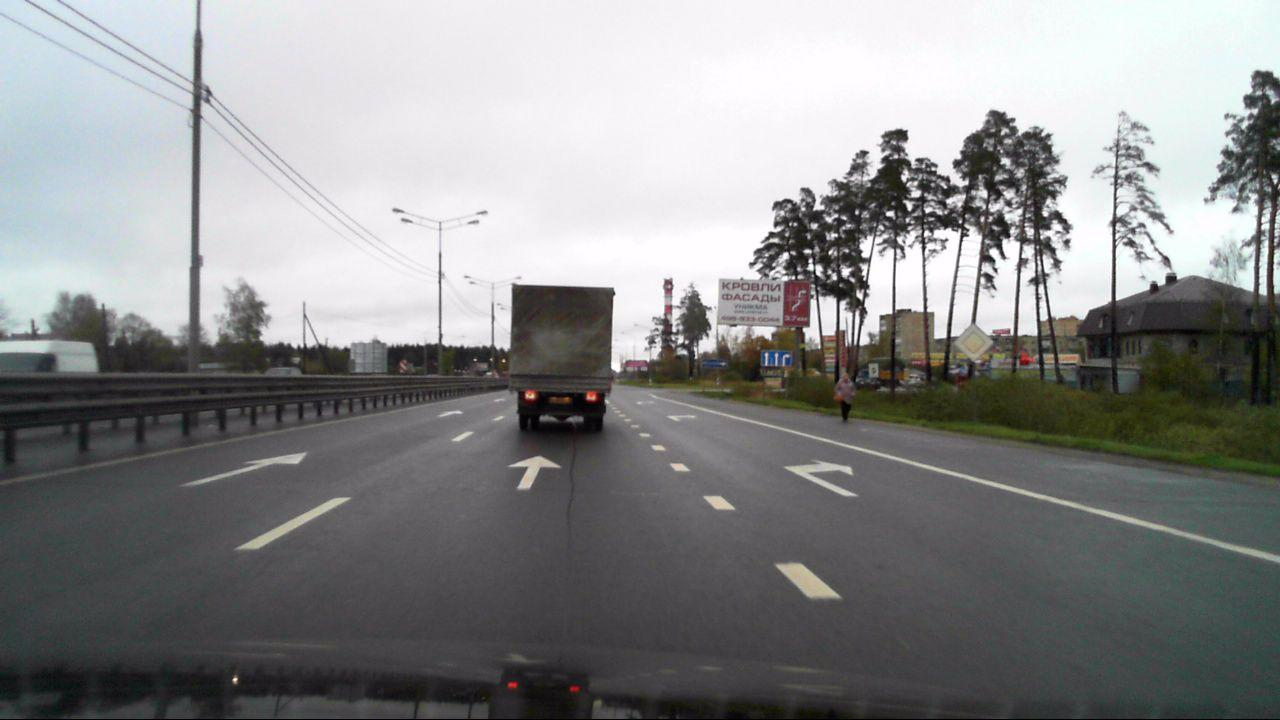2_1: (954, 321, 992, 360)
5_15_1: (760, 350, 792, 367)
6_10_1: (701, 358, 729, 368)
